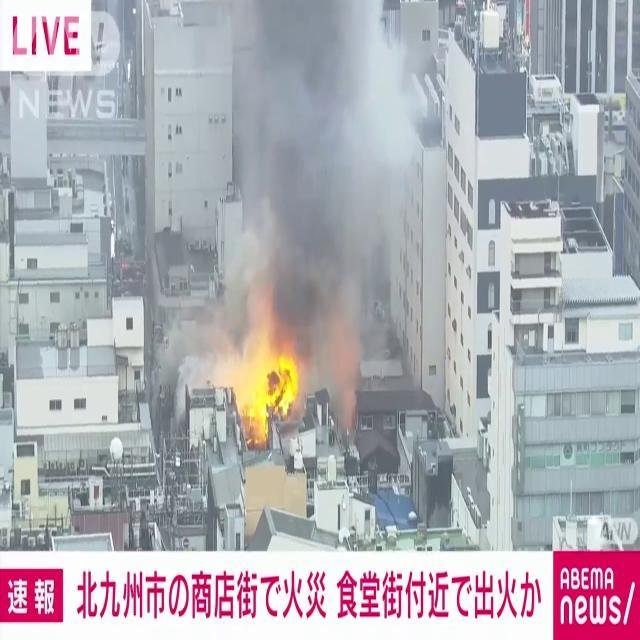Fire: (228, 336, 304, 438)
Smoke: (218, 1, 430, 368)
